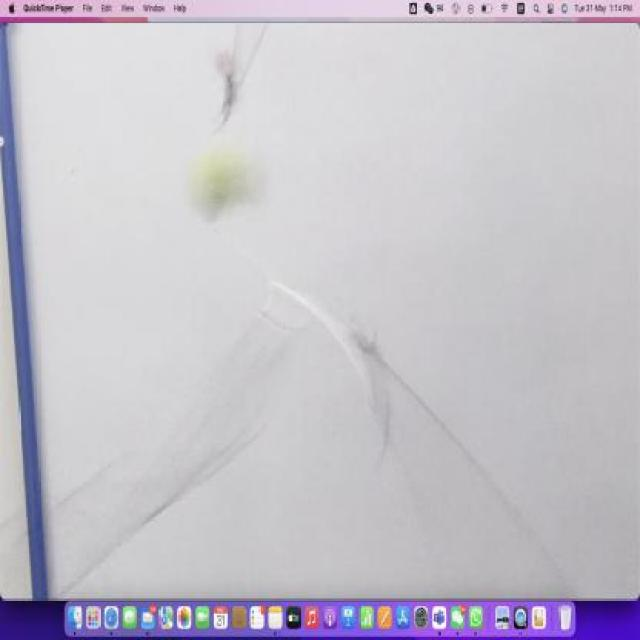baseball: (192, 142, 242, 222)
